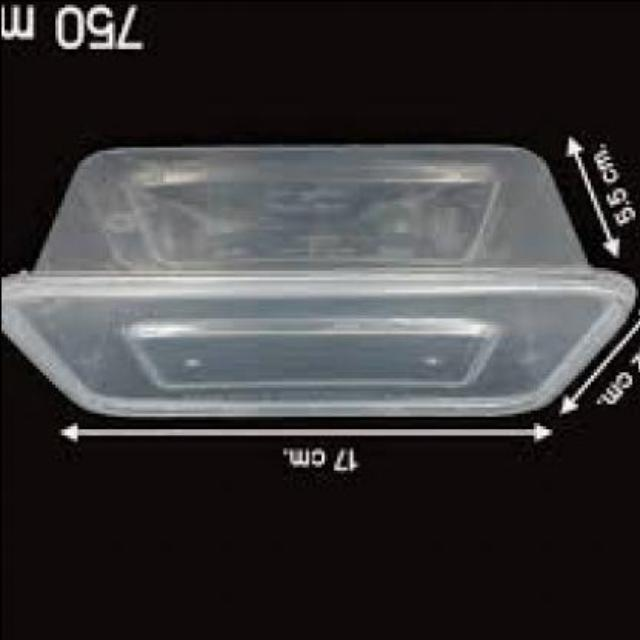plastic_box: (3, 142, 633, 412)
